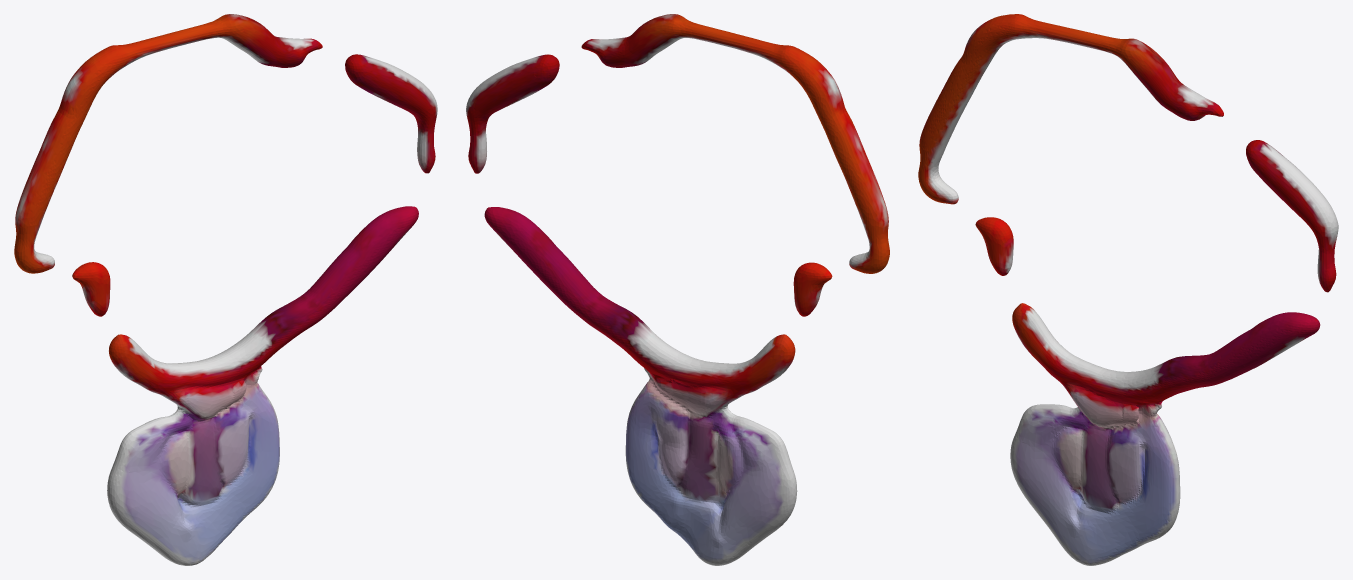
The model's file is talisman_evocation.glb.
The picture shows the model from 3 angles, left to right: view 1: azimuth 30°, elevation 25°; view 2: azimuth 150°, elevation 25°; view 3: azimuth 330°, elevation 25°; orthographic projection.
Visible parts, largest first — view 1: geometry_0; view 2: geometry_0; view 3: geometry_0.
Part boxes in pixels (box(x1,y1,x2,y2)): geometry_0: box(14, 14, 437, 565); geometry_0: box(466, 14, 889, 565); geometry_0: box(918, 14, 1338, 565).
Bounding box in the file's own units: 0.5312 × 0.6483 × 0.0361.
